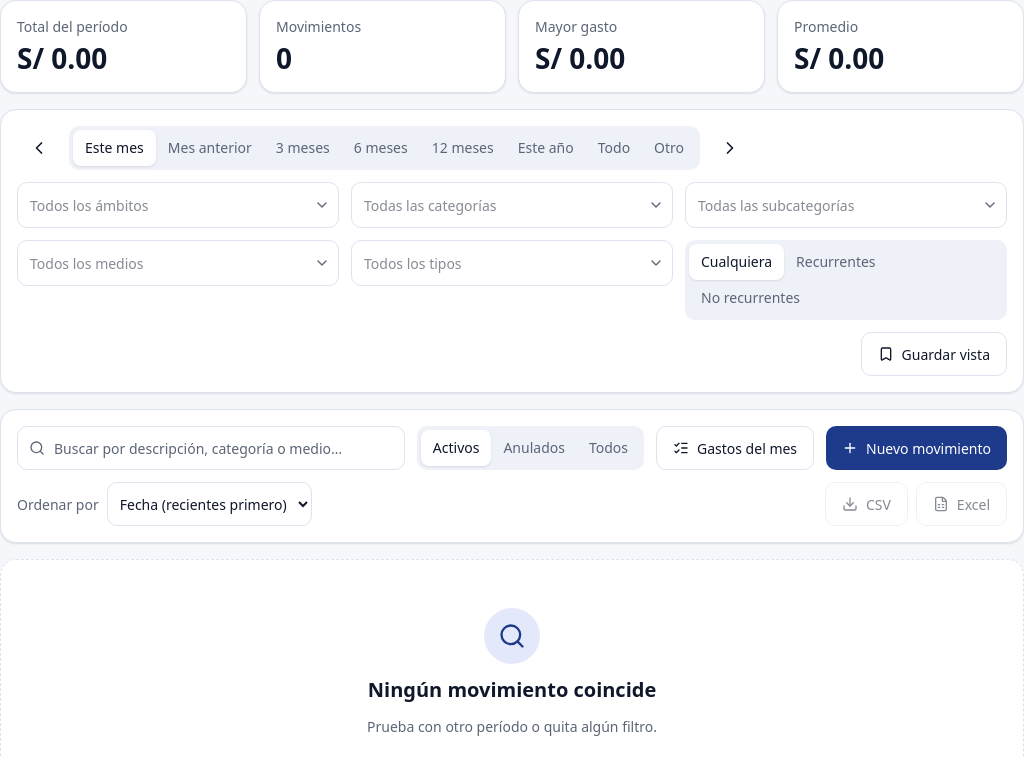
Test: Movimientos · lista › sin coincidencias ofrece limpiar filtros
Click the radio button labelled "Todo" at point(614, 148), box [586,130,642,166]
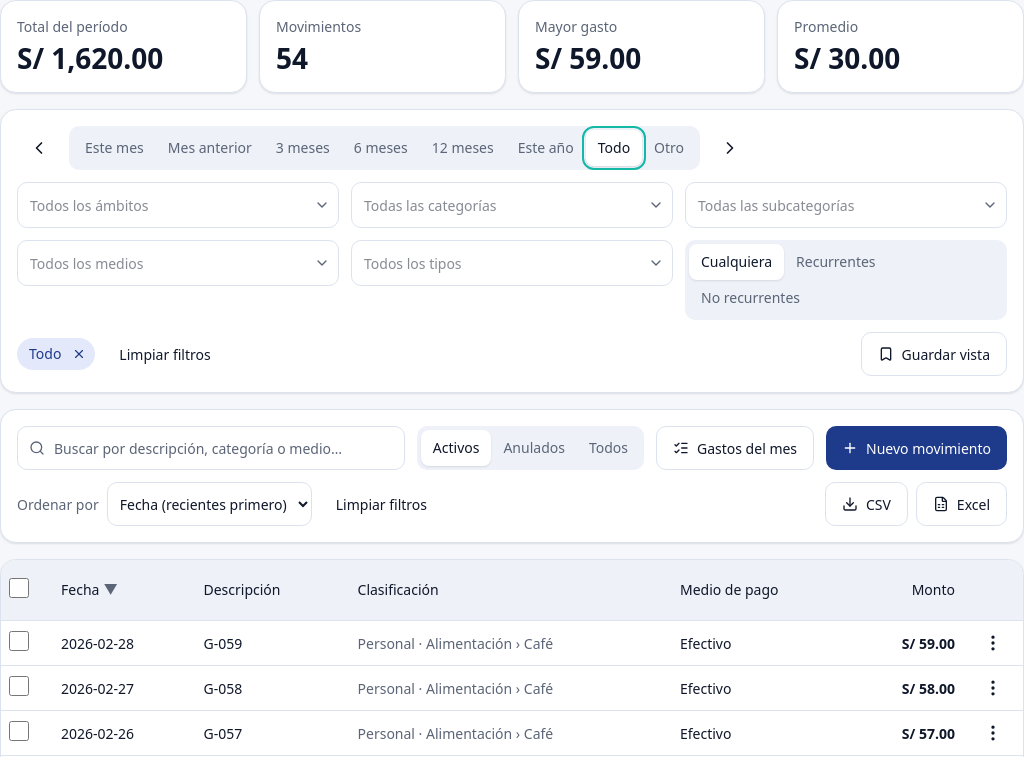
Type "zzzz" into the search field at point(211, 448), box [17,426,405,470]
(page scrolled)
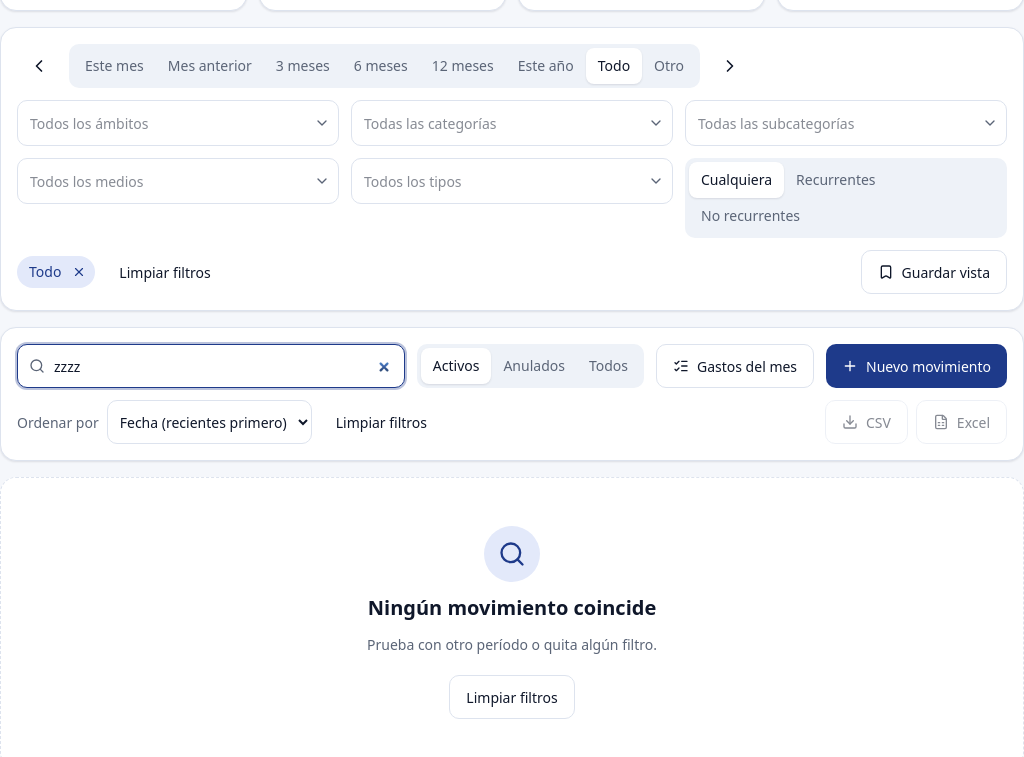
Now the heading "Ningún movimiento coincide" is shown, box [368,594,656,622]
Click the button "Limpiar filtros" below "Ningún movimiento coincide" at point(512, 697), box [449,675,575,719]
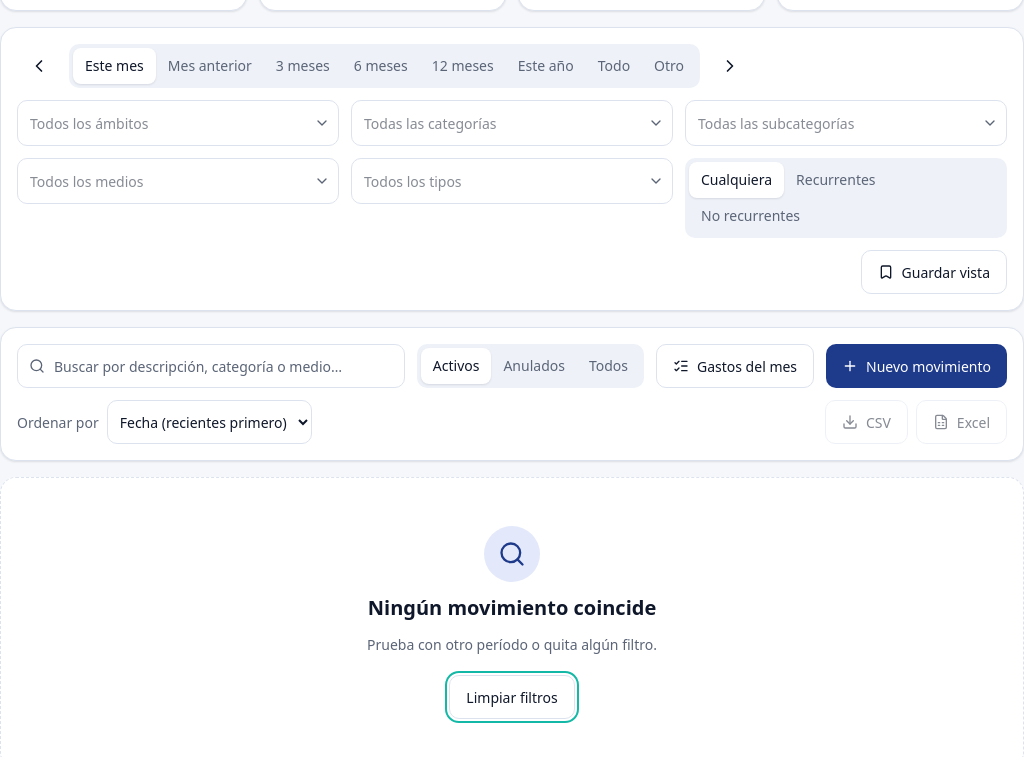
Now the search field is empty, box [17,344,405,388]
Now the radio button labelled "Este mes" is checked, box [73,48,156,84]
